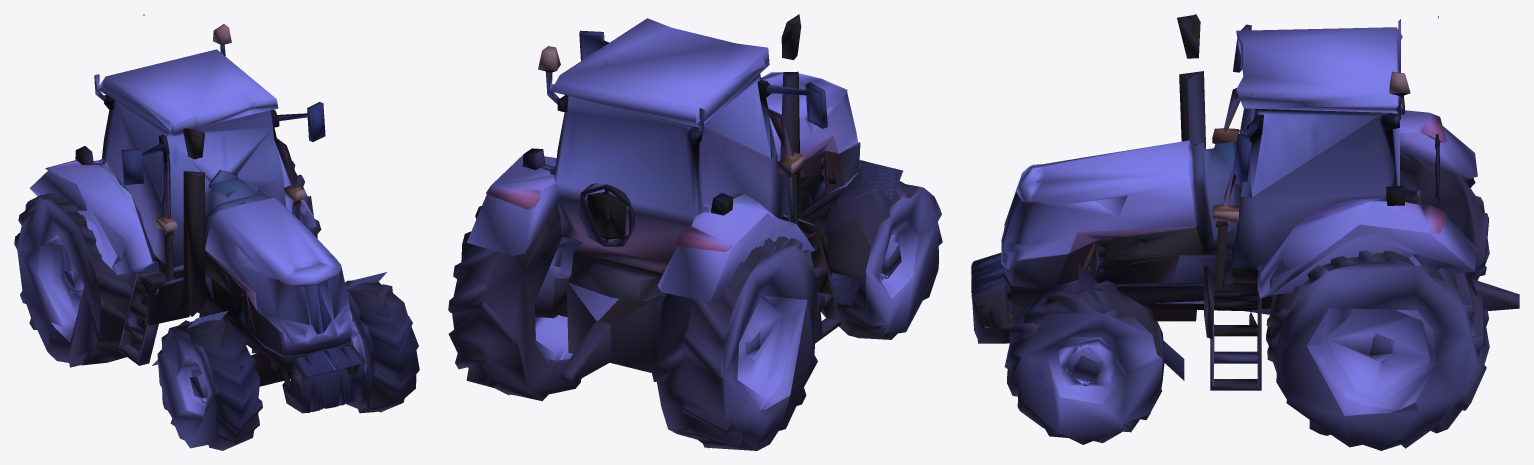
File: model.progressive.glb
The picture shows the model from 3 angles, left to right: view 1: azimuth 30°, elevation 25°; view 2: azimuth 150°, elevation 25°; view 3: azimuth 270°, elevation 25°; orthographic projection. The views are drawn at different scales.
Visible parts, largest first — view 1: material; view 2: material; view 3: material.
Part boxes in pixels (bbox=[...]): material: bbox=[14, 14, 419, 450]; material: bbox=[448, 14, 942, 450]; material: bbox=[971, 14, 1519, 450].
Bounding box in the file's own units: 1.1 × 1.43 × 1.9.
Materials: 1 (1 with a texture image).
